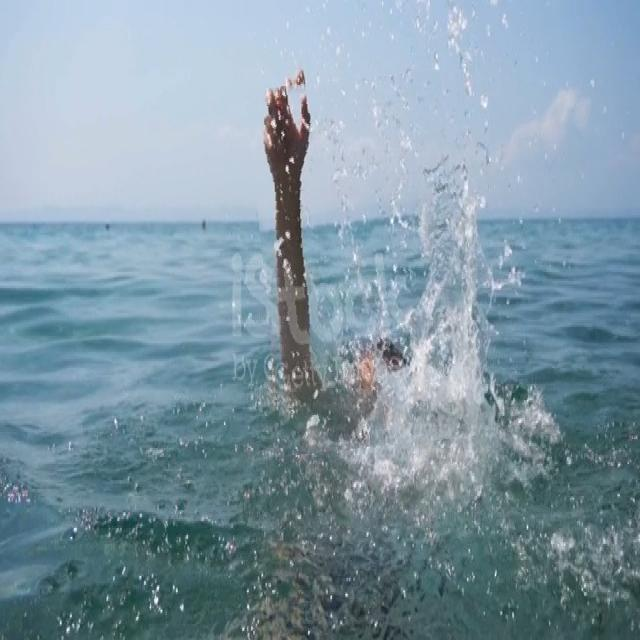Out of Water: (255, 74, 470, 452)
